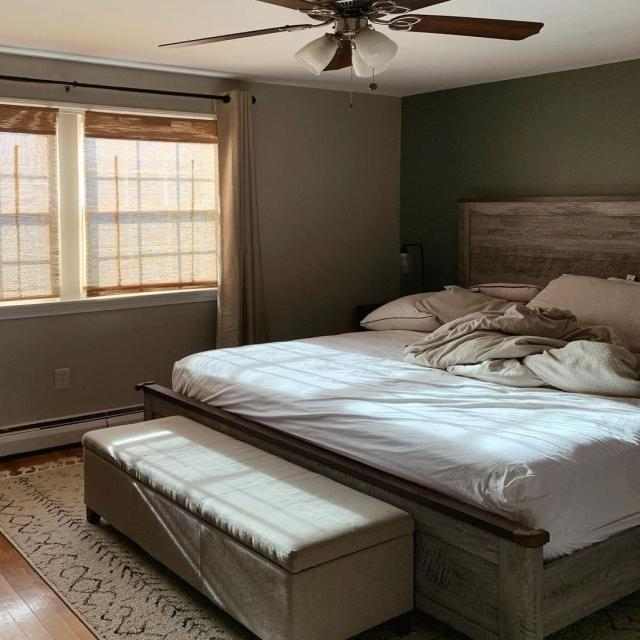bed: (234, 267, 640, 514)
